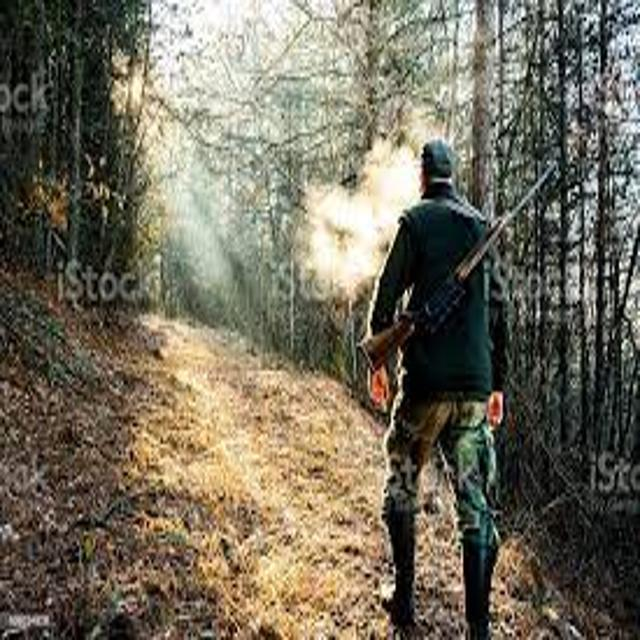Rifle: (358, 160, 560, 377)
